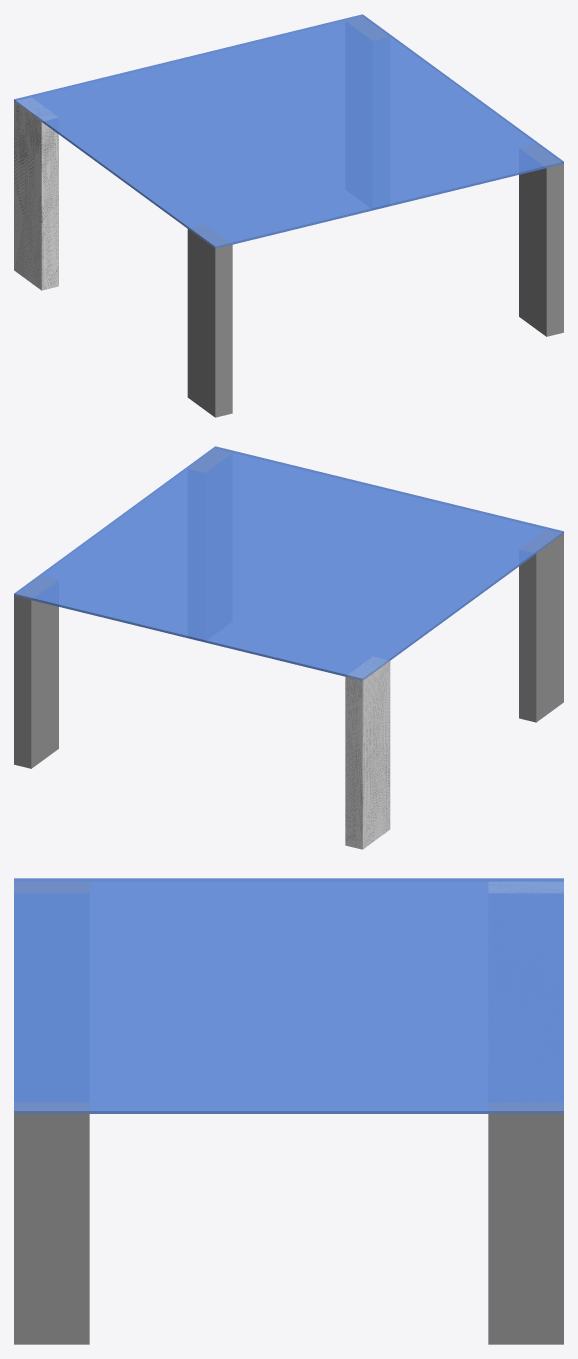
File: glass_table.dae
The picture shows the model from 3 angles, top to bottom: view 1: azimuth 30°, elevation 25°; view 2: azimuth 150°, elevation 25°; view 3: azimuth 270°, elevation 25°; orthographic projection. The views are drawn at different scales.
Parts seen in each view (by area): view 1: skpAC24 (×4); view 2: skpAC24 (×4); view 3: skpAC24 (×5).
Part boxes in pixels (bbox=[...]): skpAC24 (×4): bbox=[14, 14, 563, 417]; skpAC24 (×4): bbox=[14, 446, 563, 849]; skpAC24 (×5): bbox=[14, 878, 563, 1344].
Bounding box in the file's own units: 62.99 × 62.99 × 29.53.
